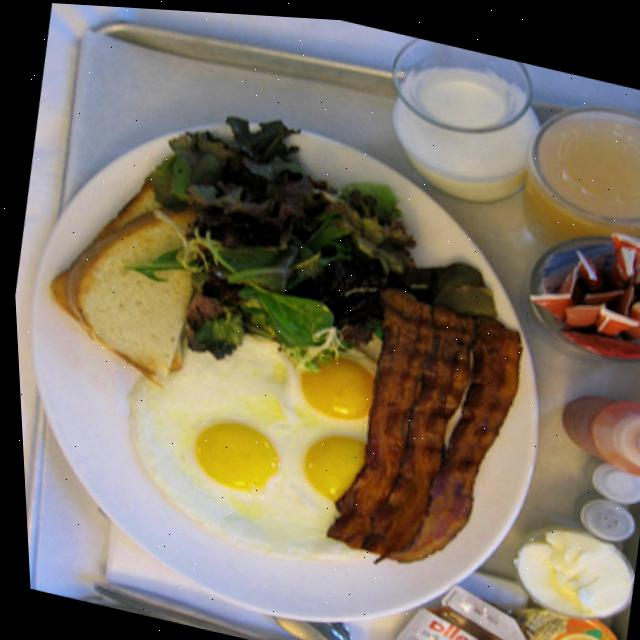蔬菜料理: (158, 120, 400, 361)
鸡蛋料理: (154, 301, 348, 550)
